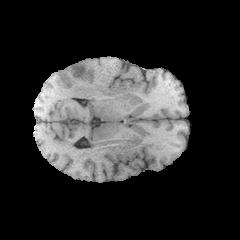glioma: (59, 60, 107, 98)
